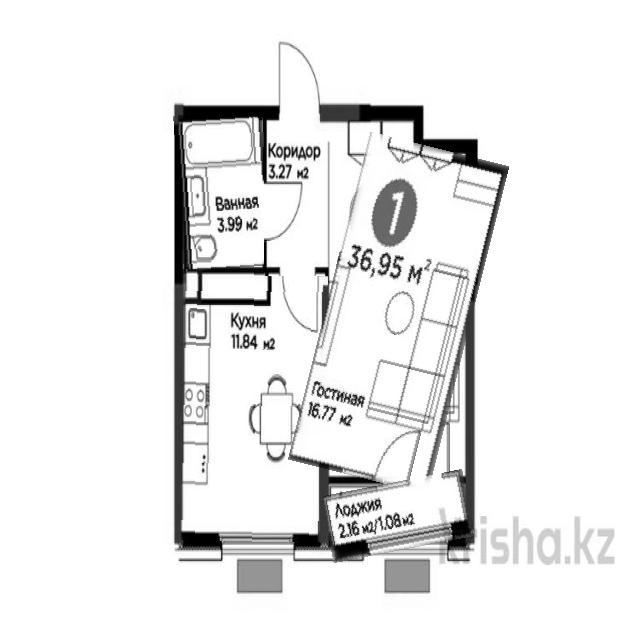balcony: (323, 476, 472, 557)
bathroom: (175, 112, 270, 270)
hallway: (264, 110, 330, 276)
kitchen: (178, 269, 327, 542)
living_room: (308, 138, 490, 488)
